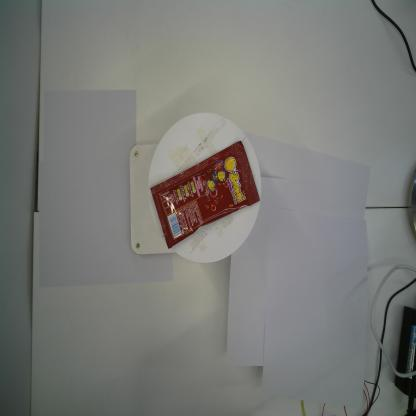Candy: (150, 140, 260, 250)
